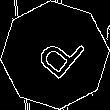P_SW: (24, 24, 86, 86)
